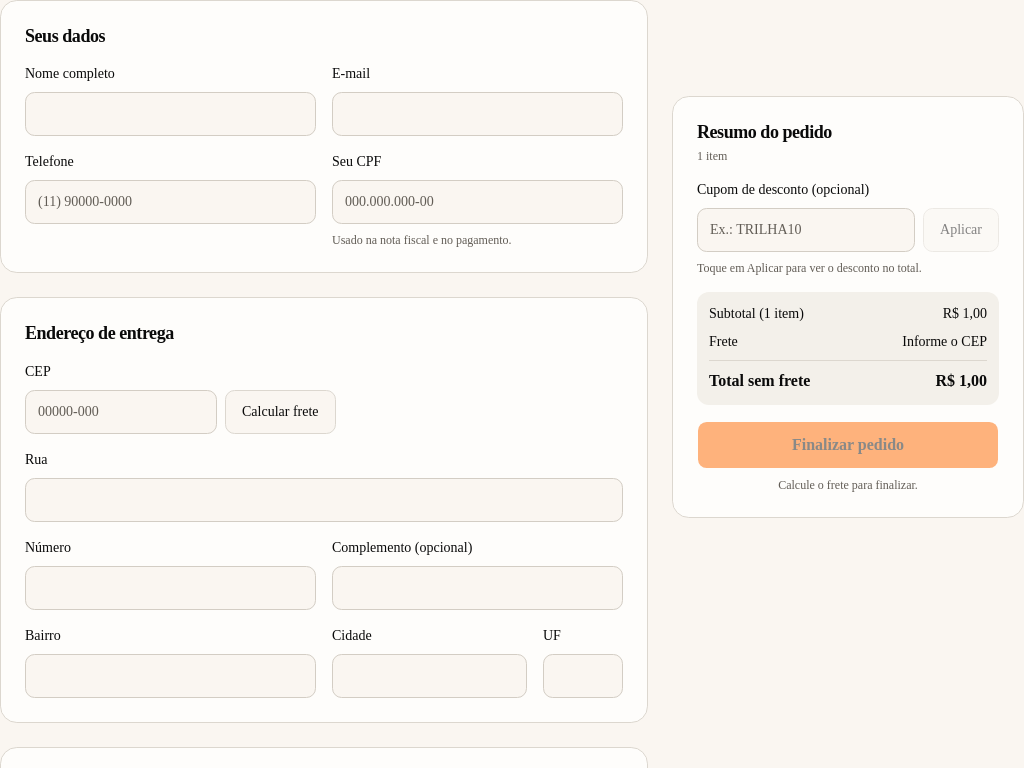
Scenario: fills the address from ViaCEP without overwriting typed values
The image size is (1024, 768).
Type "Rua digitada" into the field labelled "Rua".
click(324, 500); type("Rua digitada")  # box [25,478,623,522]
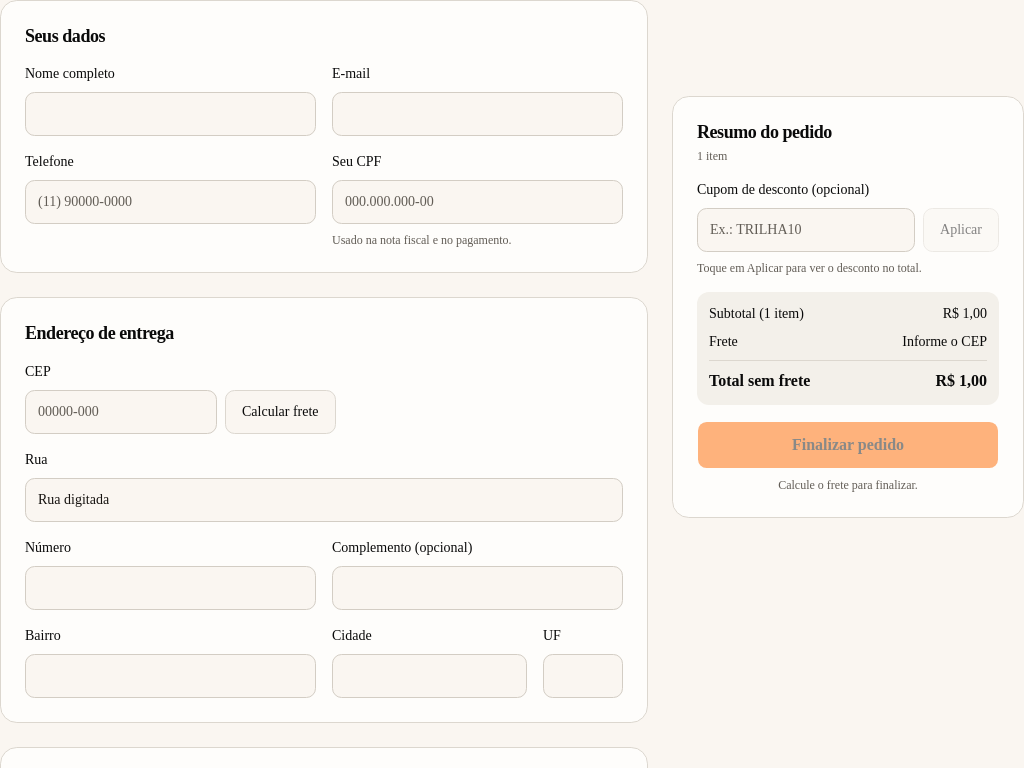
Type "01001-000" into the field labelled "CEP".
click(121, 412); type("01001-000")  # box [25,390,217,434]
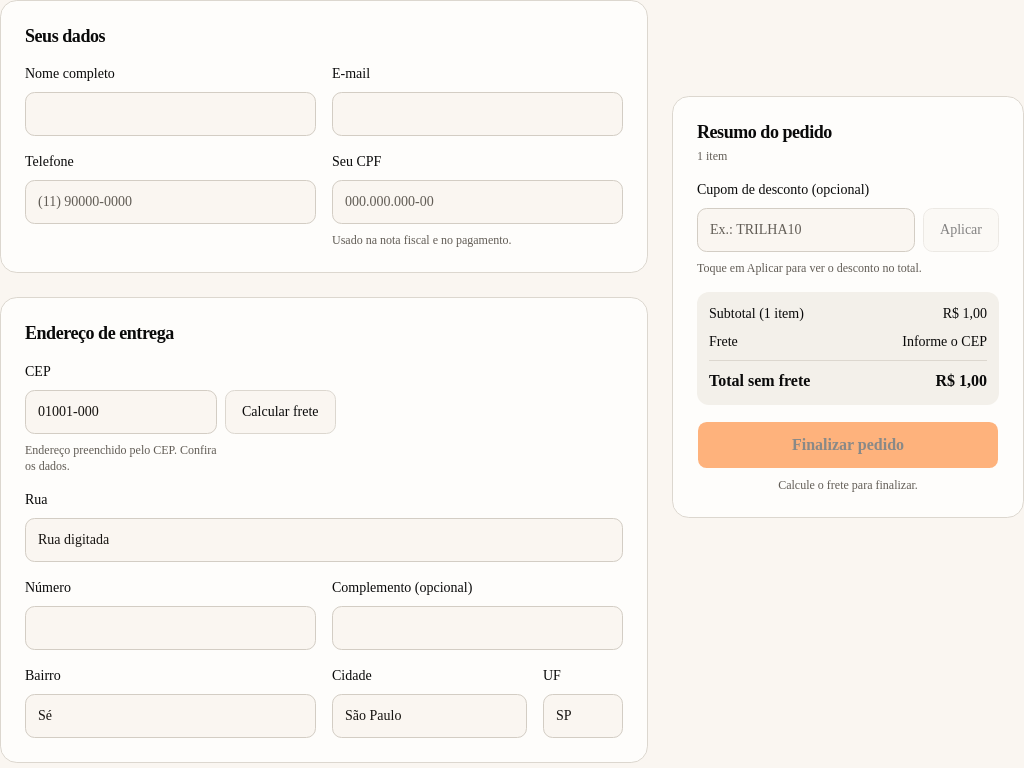
Expected: the field labelled "Cidade" holds "São Paulo", [332,694,527,738]
Expected: the field labelled "Bairro" holds "Sé", [25,694,316,738]
Expected: the field labelled "UF" holds "SP", [543,694,623,738]
